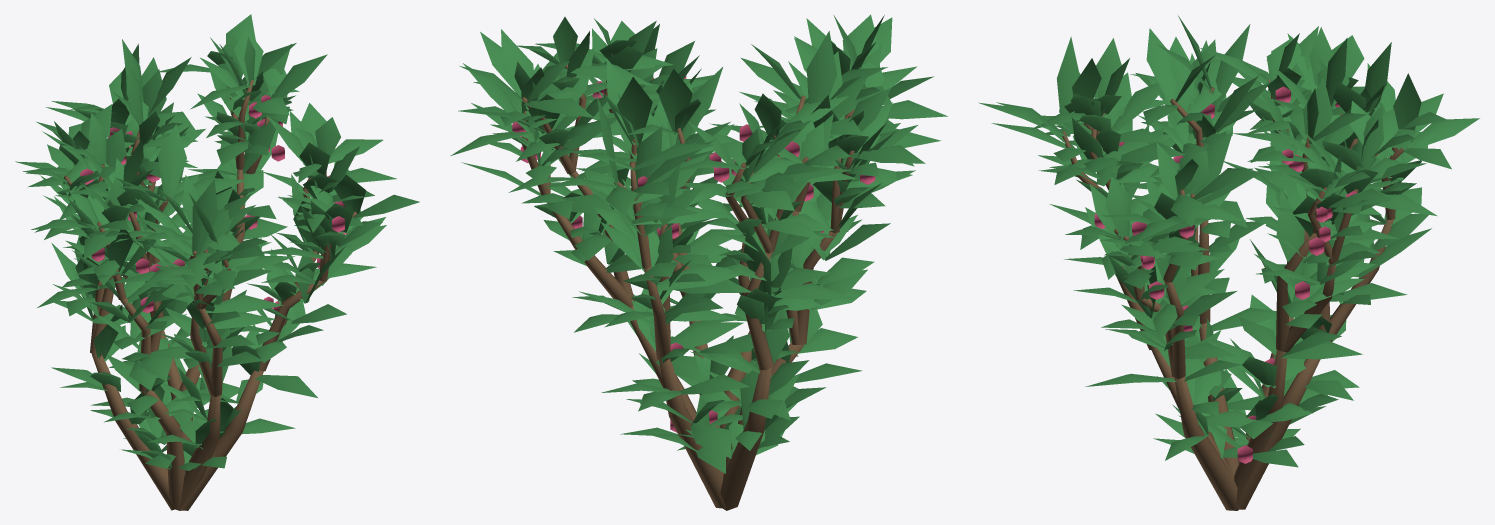
File: ornamental_shrub.glb
3 renders of one model, left to right at view 1: azimuth 30°, elevation 25°; view 2: azimuth 150°, elevation 25°; view 3: azimuth 270°, elevation 25°, orthographic. The views are drawn at different scales.
Visible parts, largest first — view 1: ornamental_shrub_leaves, ornamental_shrub_branches, ornamental_shrub_berries; view 2: ornamental_shrub_leaves, ornamental_shrub_branches, ornamental_shrub_berries; view 3: ornamental_shrub_leaves, ornamental_shrub_branches, ornamental_shrub_berries.
Part boxes in pixels (box(x1,y1,x2,y2)): ornamental_shrub_leaves: box(15, 14, 419, 470); ornamental_shrub_branches: box(64, 80, 357, 510); ornamental_shrub_berries: box(80, 95, 347, 313); ornamental_shrub_leaves: box(450, 14, 947, 473); ornamental_shrub_branches: box(521, 64, 854, 510); ornamental_shrub_berries: box(512, 76, 875, 432); ornamental_shrub_leaves: box(978, 15, 1479, 467); ornamental_shrub_branches: box(1062, 87, 1407, 510); ornamental_shrub_berries: box(1094, 79, 1357, 463).
Size of the model in its own units: 0.9095 by 1.06 by 1.01.
